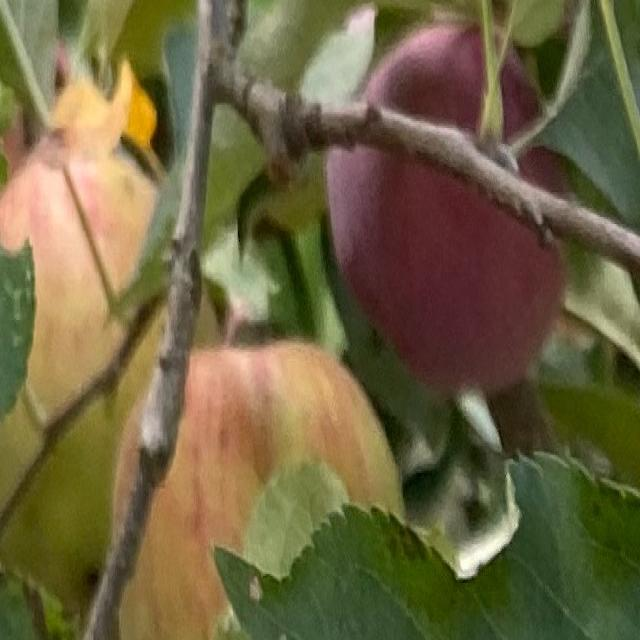Apples: (1, 147, 217, 617), (115, 340, 402, 638), (328, 30, 566, 377)
